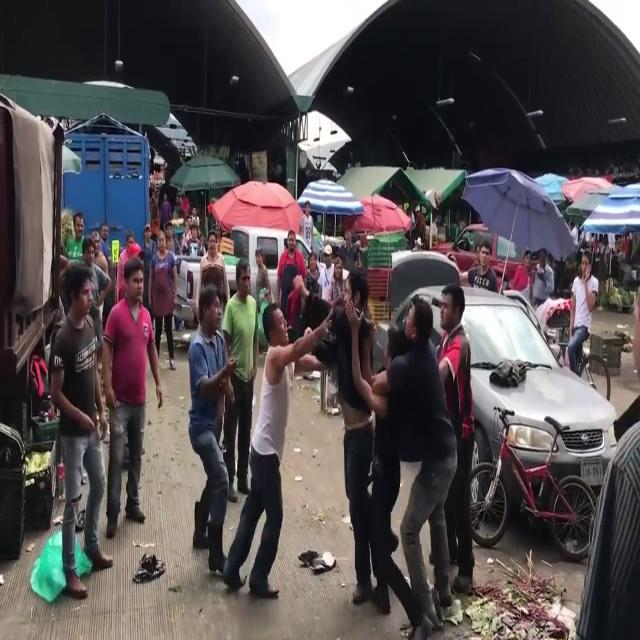Violence: (222, 265, 379, 609)
